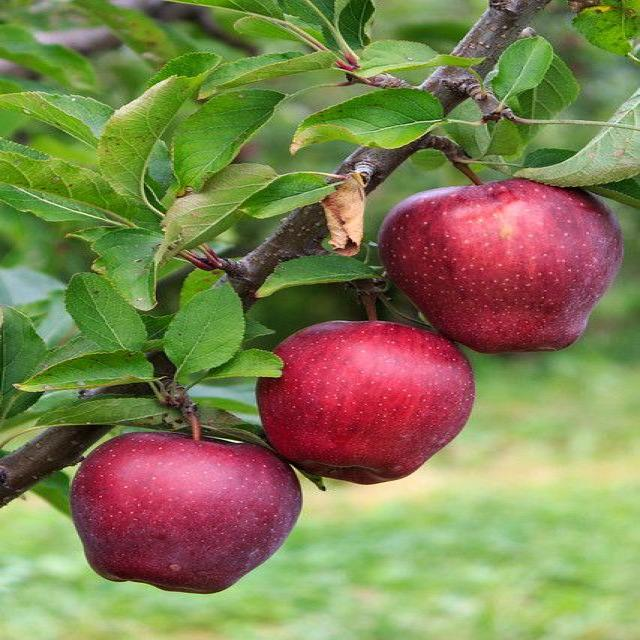Tao: (378, 175, 620, 353), (248, 314, 484, 484), (70, 428, 304, 591)
